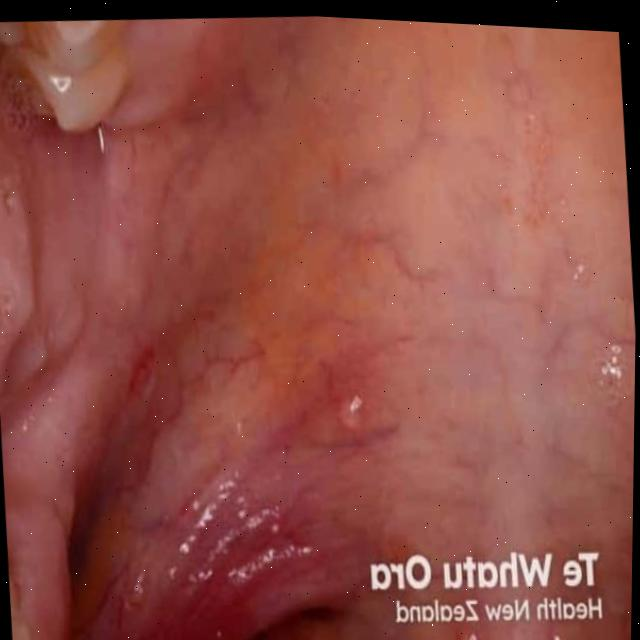Eczema: (134, 369, 407, 638)
